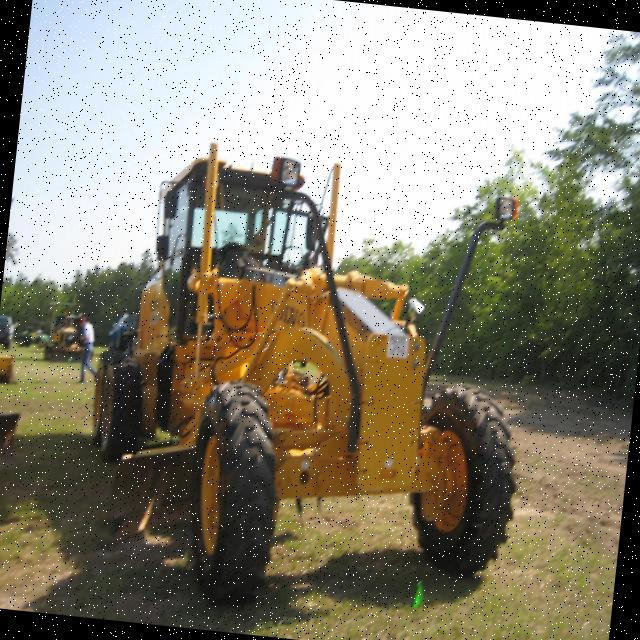Grader: (66, 120, 572, 626)
